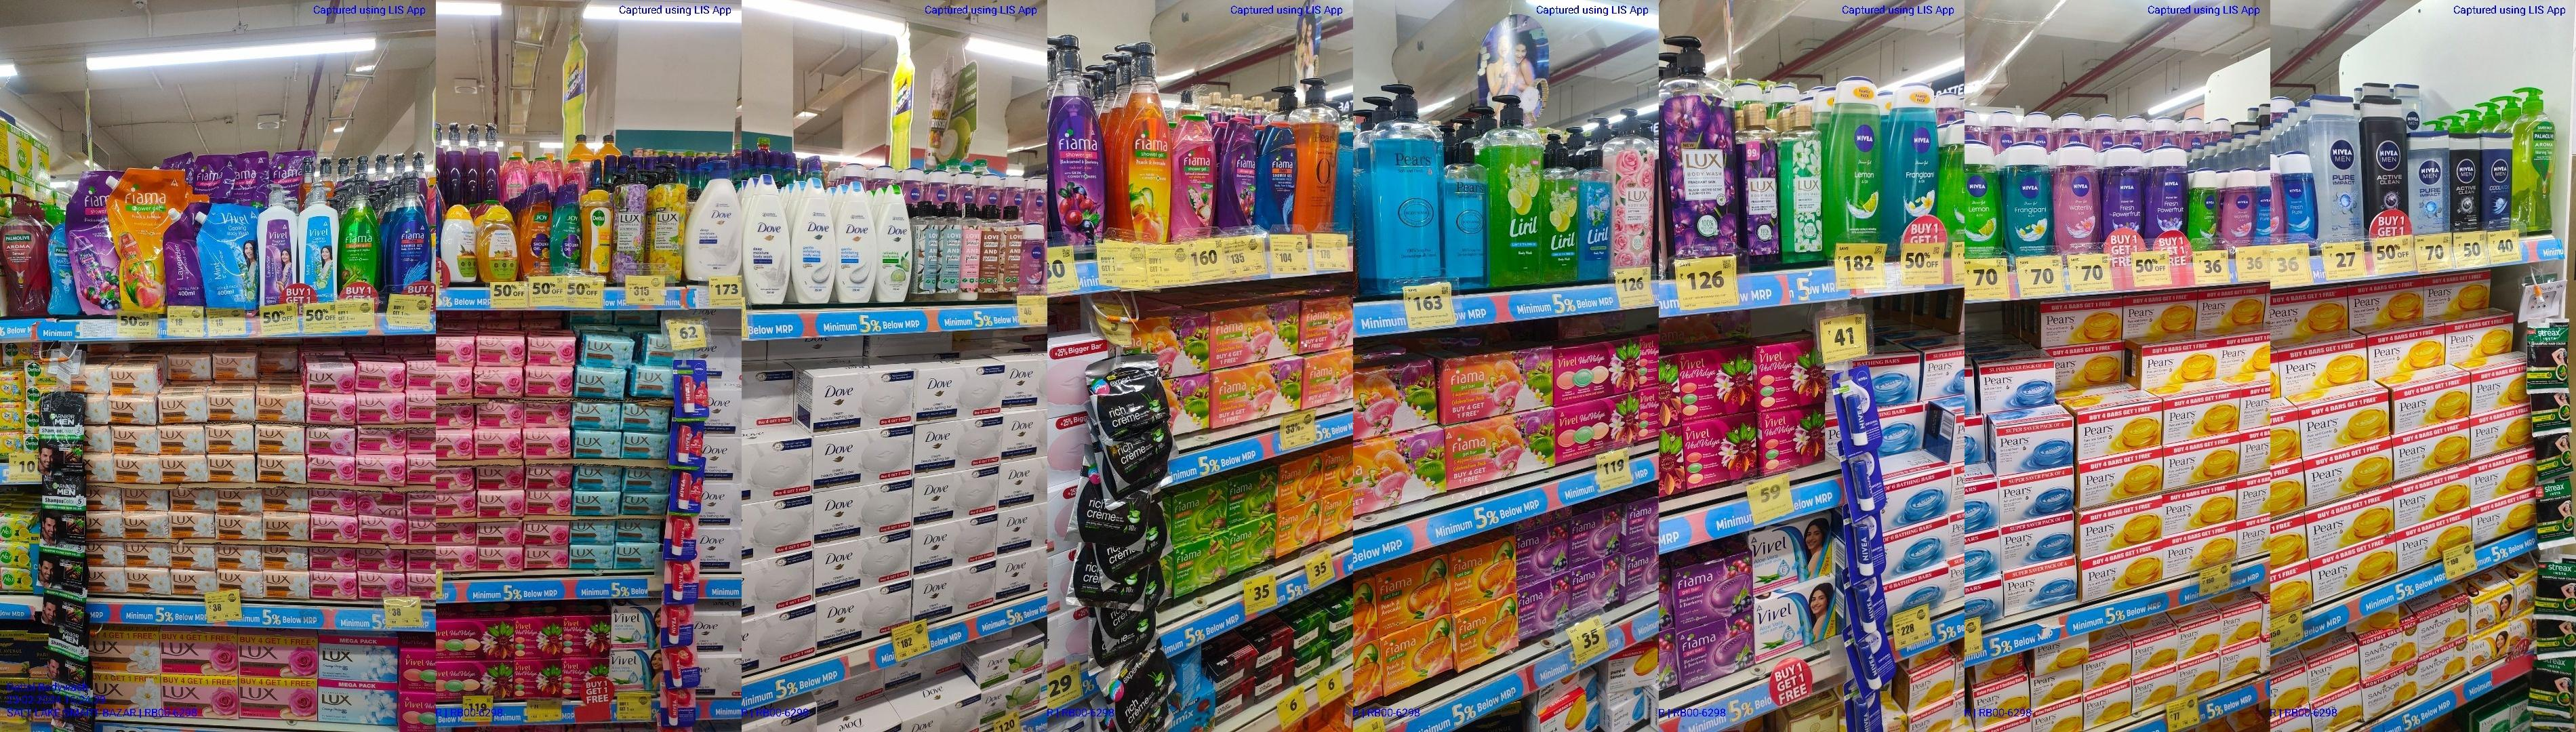Dettol_Bodywash_Refresh: (580, 189, 611, 277)
Dove_Deep_Moisture_Body_Wash_250ML: (747, 174, 789, 305)
Dove_Gentle_Exfoliating_Body_Wash_250ML: (792, 176, 833, 304), (836, 181, 874, 304)
Dove_Refreshing_Body_Wash_250ML: (874, 181, 910, 302)
Fiama_Shower_Gel_Patchouli_and_Macadamia_250ML: (1173, 113, 1217, 238)
Joy_Shower_Gel_Mandarin_and_Lemongrass_250ML: (521, 184, 552, 277)
Joy_Shower_Gel_Mint_and_Eucalyptus_250ML: (552, 182, 580, 269)
Liril_Cooling_Mint_Body_Wash_250ML: (1580, 146, 1613, 281)
Liril_Lime_and_Tea_Tree_Oil_Body_Wash_250ML: (1541, 146, 1580, 282)
Lux_Black_Orchid_Scent_and_Juniper_Oil_Body_Wash_245ML: (1740, 103, 1781, 263)
Lux_Body_Wash_Skin_Detox_Freesia_Scent_and_Alove_Vera_245ML: (1782, 102, 1825, 263)
Nivea_Shower_Gel_Frangipani_and_Oil_250ML: (1888, 79, 1940, 213), (2001, 143, 2054, 256)
Nivea_Shower_Gel_Fresh_Powerfruit_250ML: (2146, 143, 2190, 231), (2104, 143, 2144, 230)
Nivea_Shower_Gel_Lemon_and_Oil_250ML: (1828, 74, 1883, 246), (1963, 138, 2001, 258)
Nivea_Shower_Gel_Waterlily_and_Oil_250ML: (2054, 143, 2100, 253)
Pears_Pure_Glycerin_and_Mint_Extracts_Body_Wash_250ML: (1444, 135, 1490, 287)
